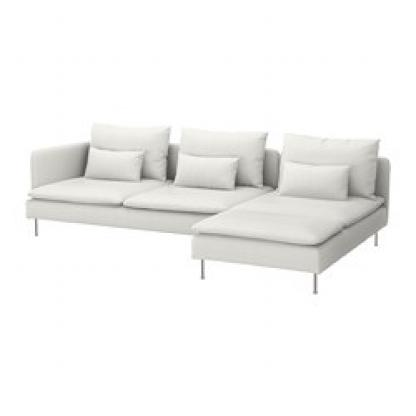Sofa: (18, 102, 396, 326)
